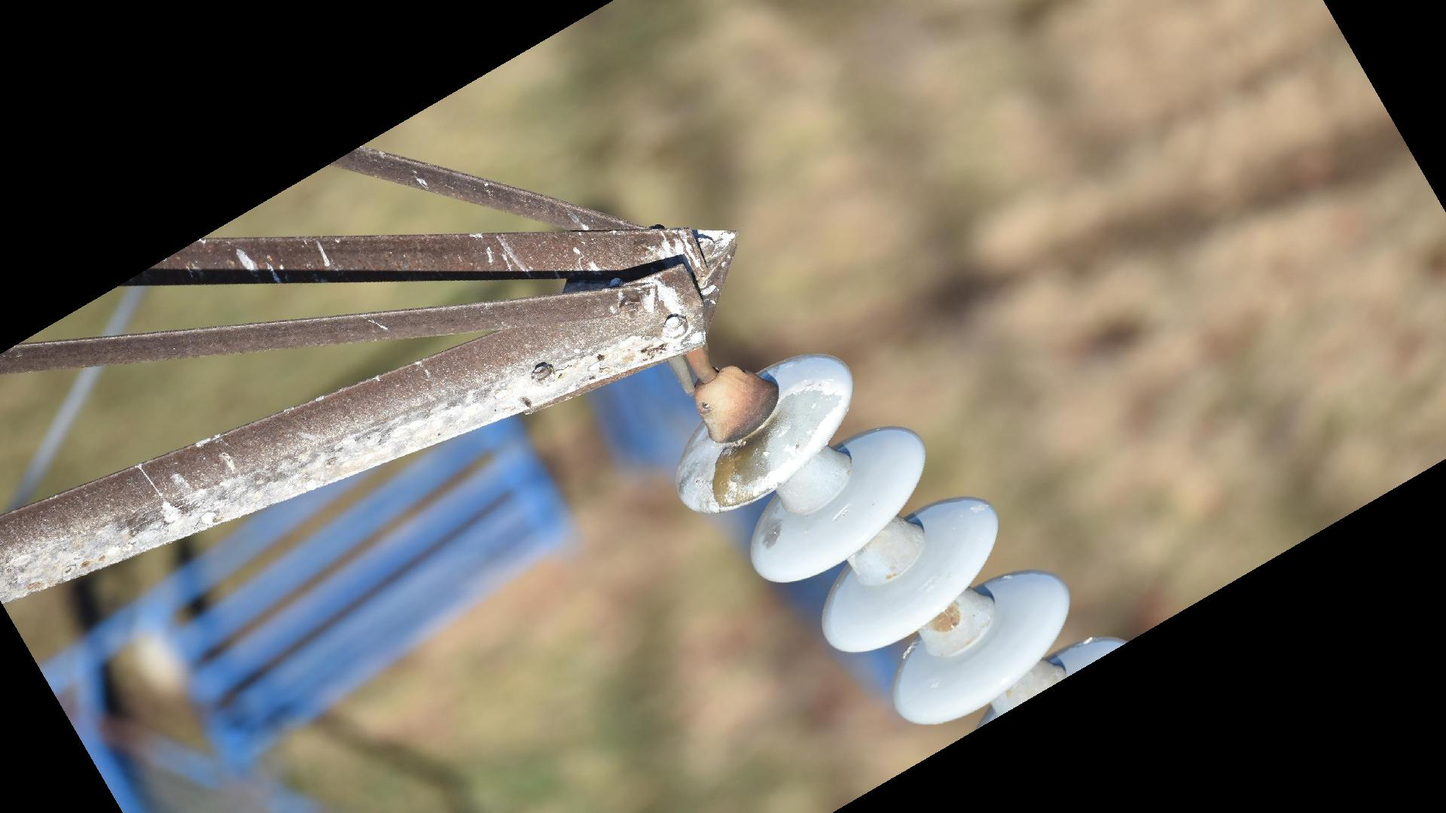insulator: (669, 346, 1133, 735)
insulator_flashover: (709, 379, 844, 511)
